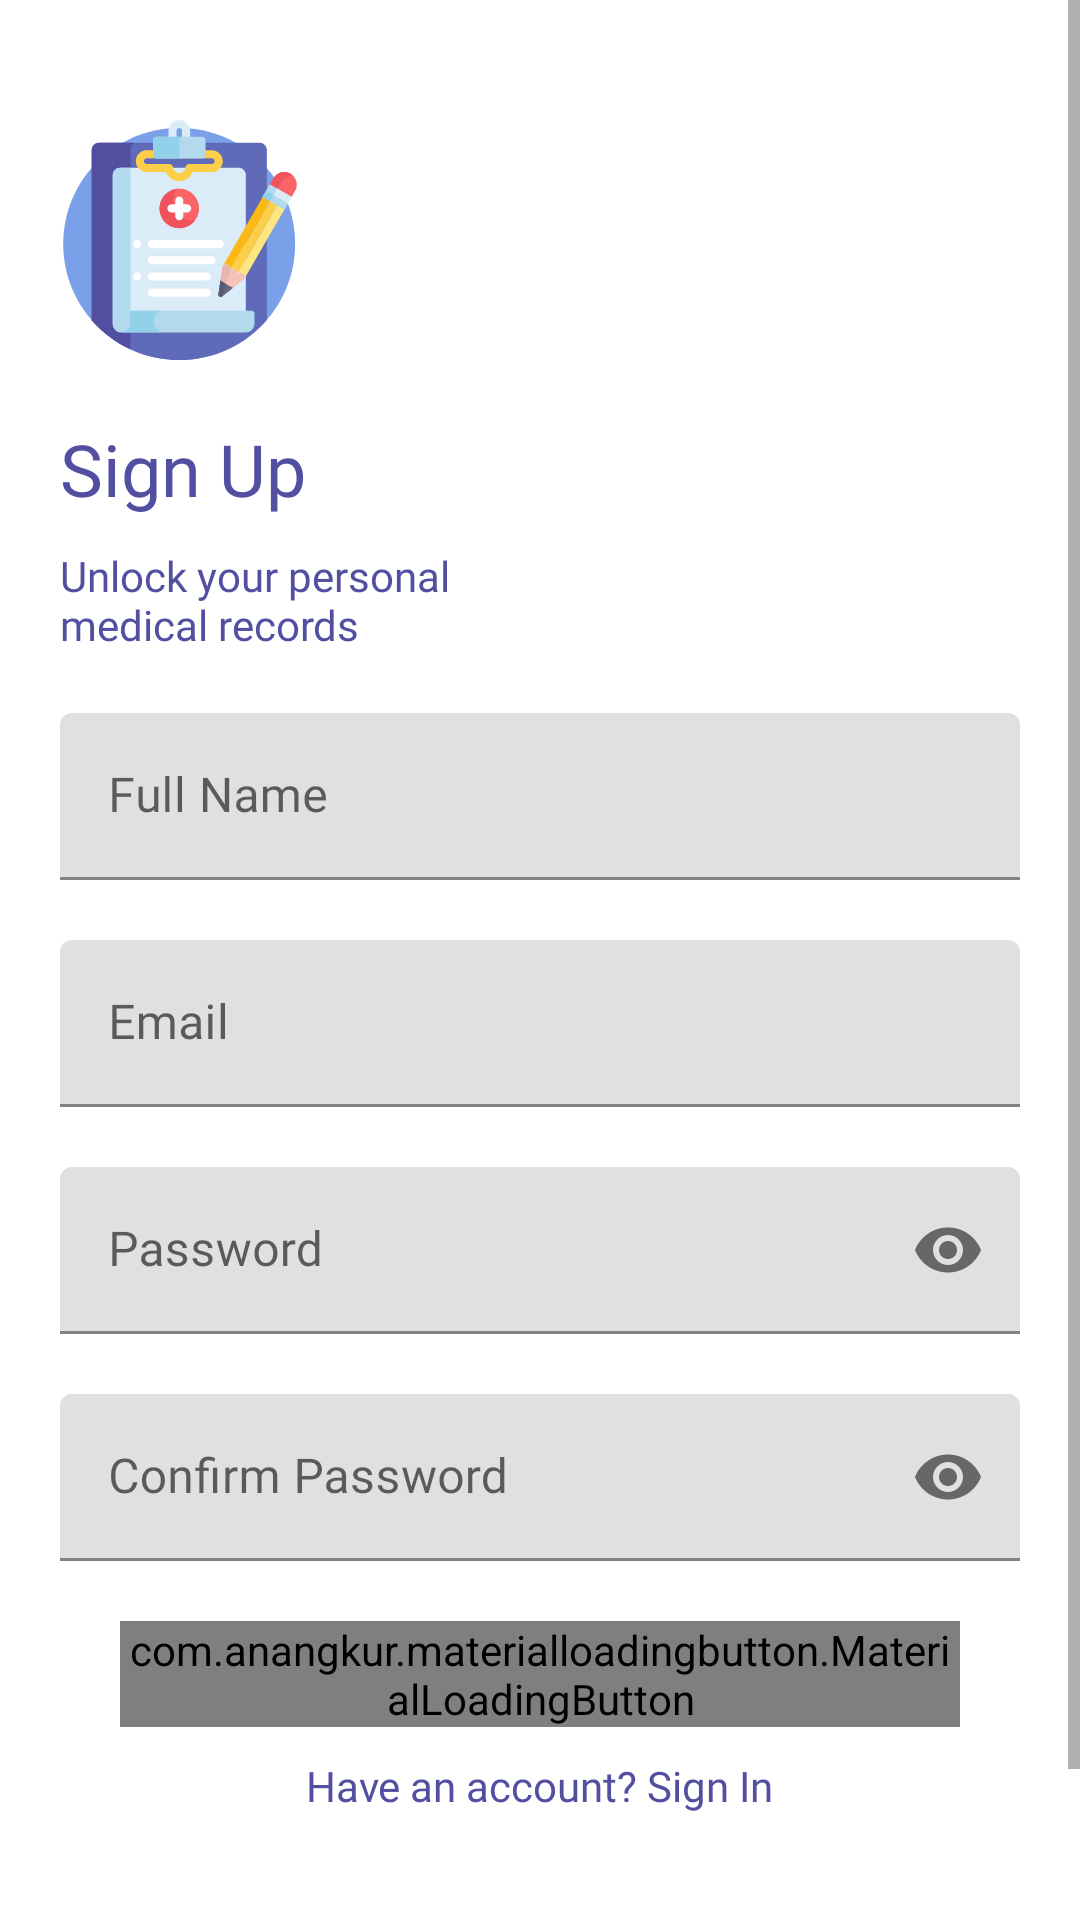

Icons on this 1080 × 1920 Android screen, each with its box as (x1, y1, x2, y2):
mediku: (63, 120, 297, 360)
